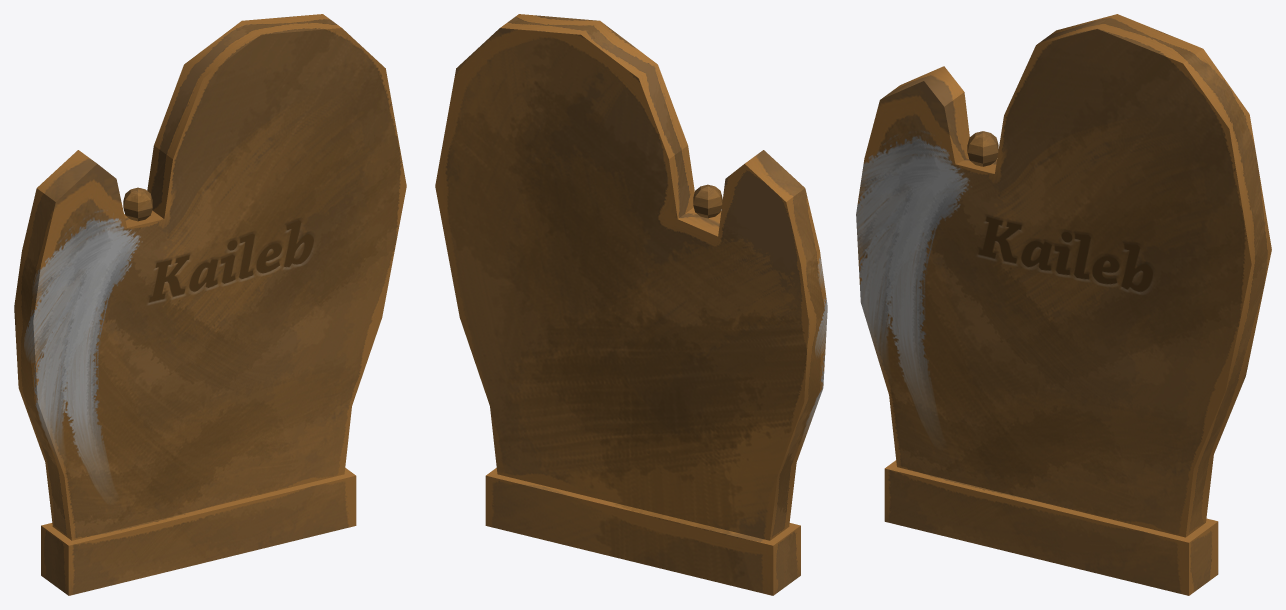
The model's file is KailebGrave_Geo.fbx.
The picture shows the model from 3 angles, left to right: view 1: azimuth 30°, elevation 25°; view 2: azimuth 150°, elevation 25°; view 3: azimuth 330°, elevation 25°; orthographic projection. The views are drawn at different scales.
Visible parts, largest first — view 1: KailebGrave_Geo; view 2: KailebGrave_Geo; view 3: KailebGrave_Geo.
Part boxes in pixels (bbox=[...]): KailebGrave_Geo: bbox=[14, 14, 406, 595]; KailebGrave_Geo: bbox=[435, 14, 827, 595]; KailebGrave_Geo: bbox=[856, 14, 1271, 595].
Size of the model in its own units: 131 by 171 by 16.79.
